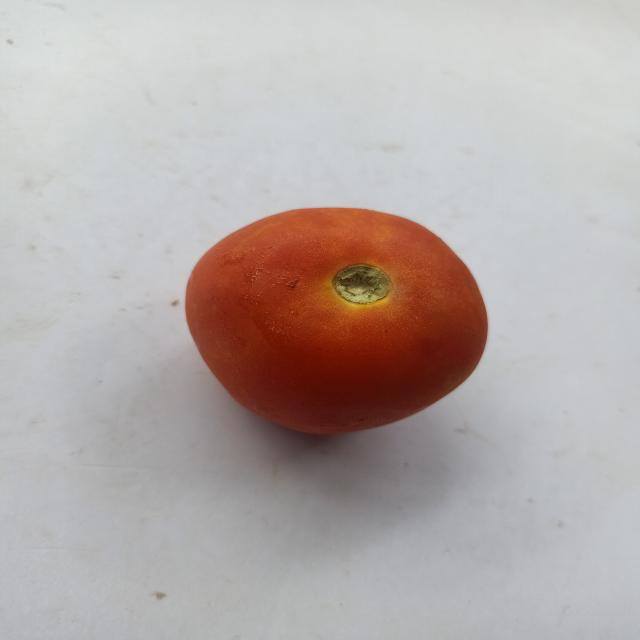Tomato: (176, 183, 515, 470)
